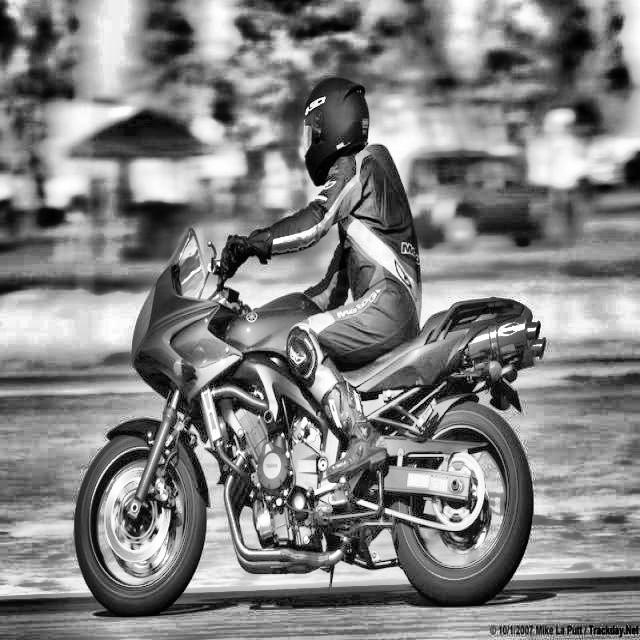Helmet: (298, 70, 372, 193)
